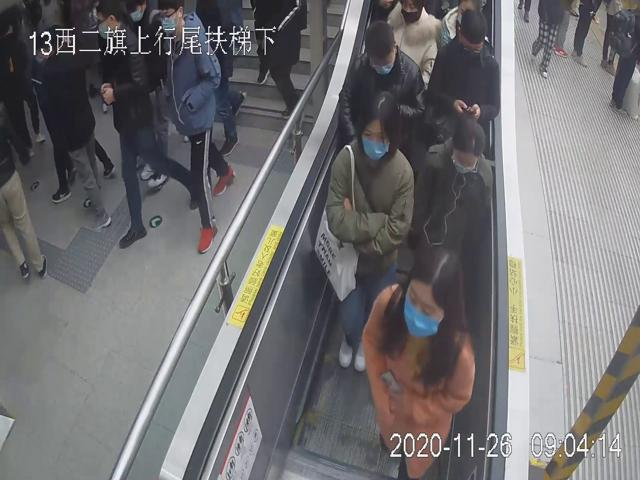person: (310, 86, 416, 372), (361, 243, 477, 473), (96, 0, 199, 249), (158, 0, 238, 259), (47, 19, 111, 234), (414, 116, 491, 260), (337, 20, 422, 141), (427, 8, 501, 138)
